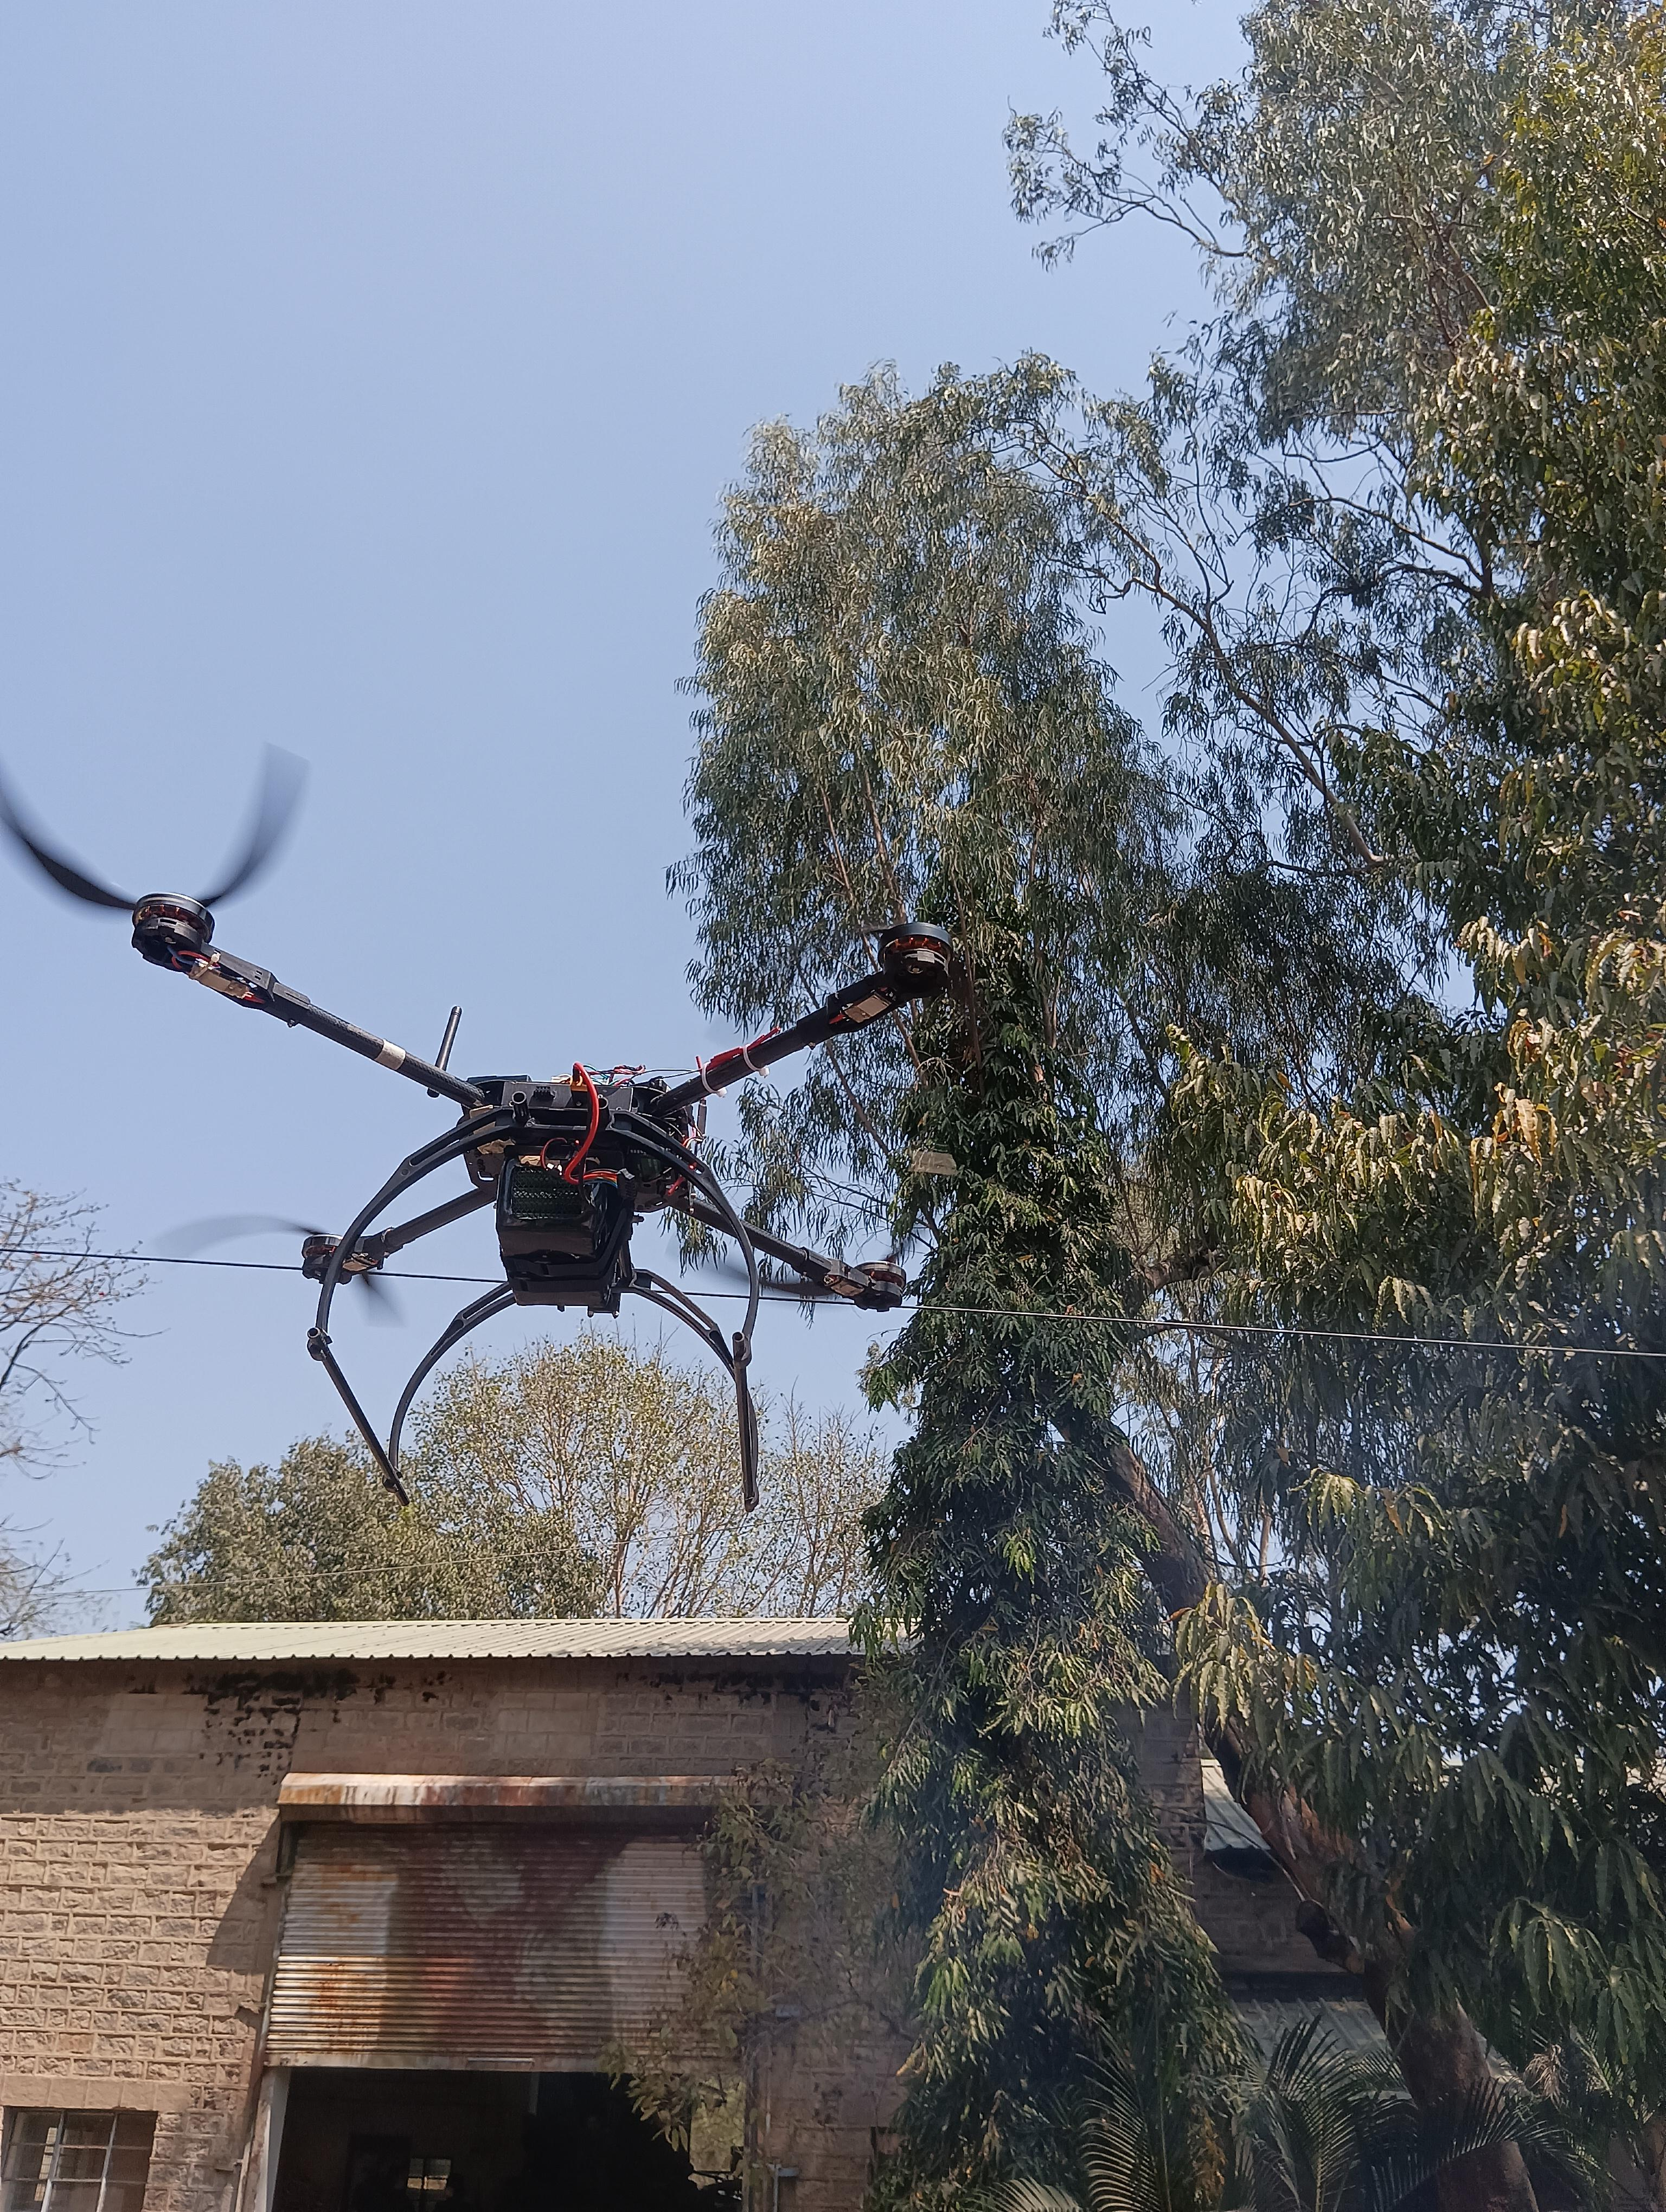drone: (2, 694, 1150, 1539)
